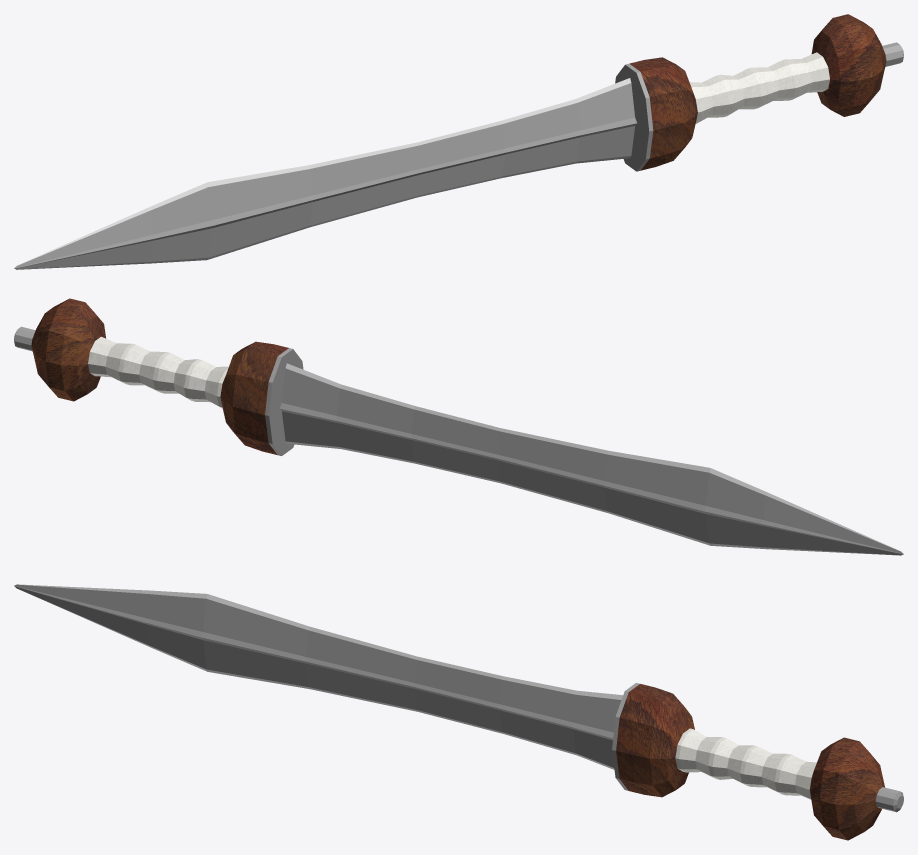
Rendered from Gladius.fbx.
The picture shows the model from 3 angles, top to bottom: view 1: azimuth 30°, elevation 25°; view 2: azimuth 150°, elevation 25°; view 3: azimuth 330°, elevation 25°; orthographic projection.
Visible parts, largest first — view 1: ZomboidGladius; view 2: ZomboidGladius; view 3: ZomboidGladius.
Boxes of the visible parts, box(x1,y1,x2,y2) form: ZomboidGladius: box(14, 14, 903, 269); ZomboidGladius: box(14, 298, 903, 555); ZomboidGladius: box(14, 584, 903, 840).
Bounding box in the file's own units: 0.5094 × 0.0543 × 0.0371.
